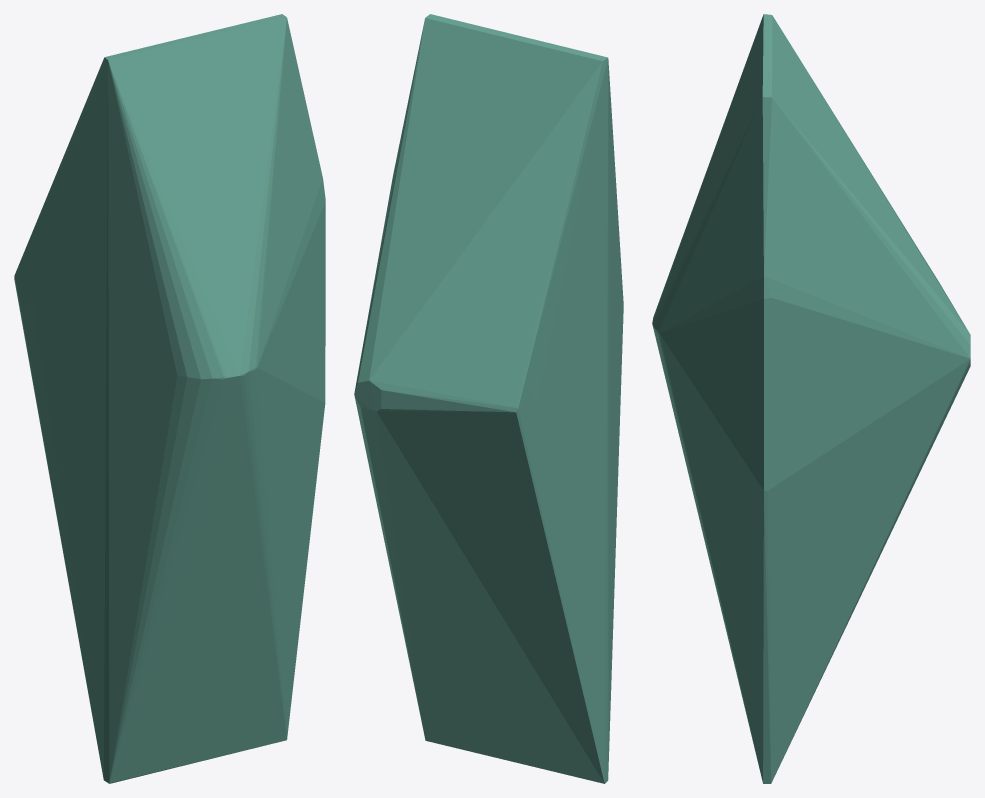
Rendered from washBasin_long_a01.glb.
3 renders of one model, left to right at view 1: azimuth 30°, elevation 25°; view 2: azimuth 150°, elevation 25°; view 3: azimuth 270°, elevation 25°, orthographic. The views are drawn at different scales.
Visible parts, largest first — view 1: geometry_0; view 2: geometry_0; view 3: geometry_0.
Boxes of the visible parts, bbox=[...] form: geometry_0: bbox=[14, 14, 325, 783]; geometry_0: bbox=[354, 14, 623, 783]; geometry_0: bbox=[652, 14, 970, 783].
Bounding box in the file's own units: 0.1523 × 0.4796 × 0.2014.
